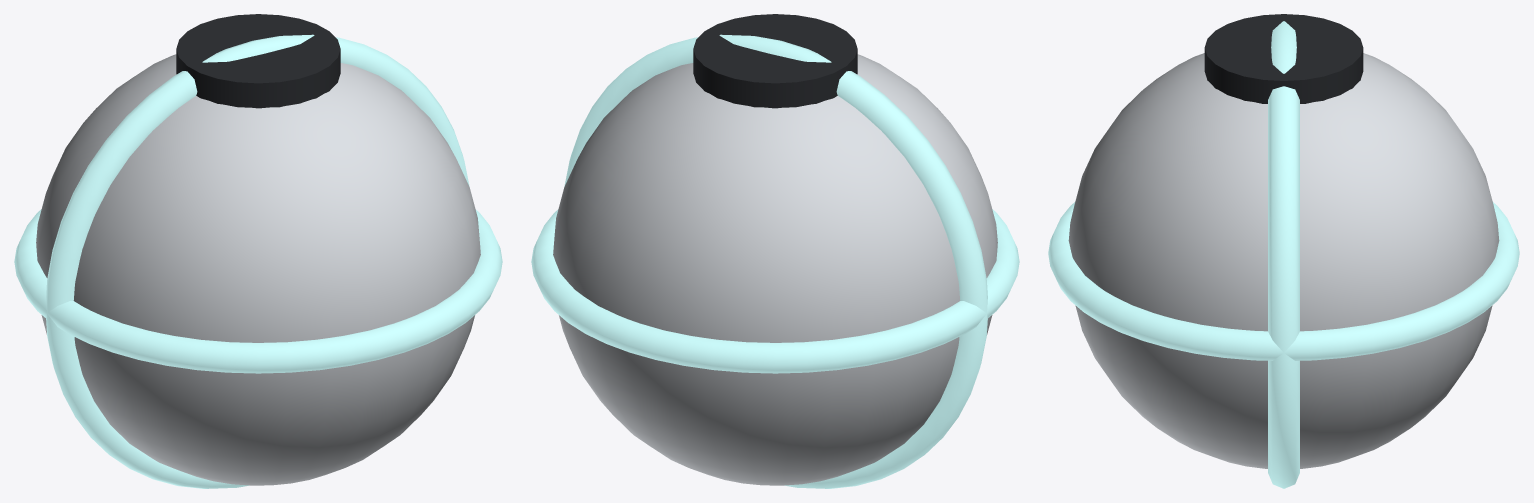
Rendered from core_0.glb.
The picture shows the model from 3 angles, left to right: view 1: azimuth 30°, elevation 25°; view 2: azimuth 150°, elevation 25°; view 3: azimuth 270°, elevation 25°; orthographic projection. The views are drawn at different scales.
Bounding box in the file's own units: 0.654 × 0.654 × 0.654.
